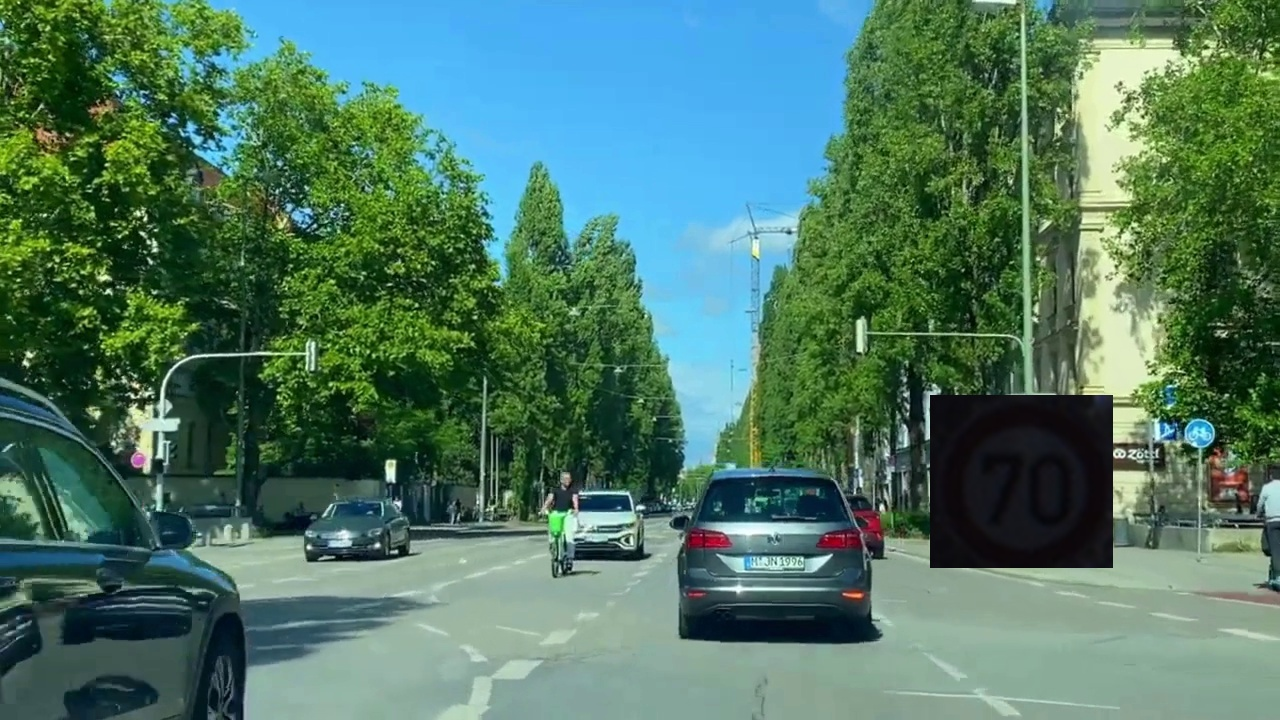Speed 70: (930, 395, 1113, 568)
